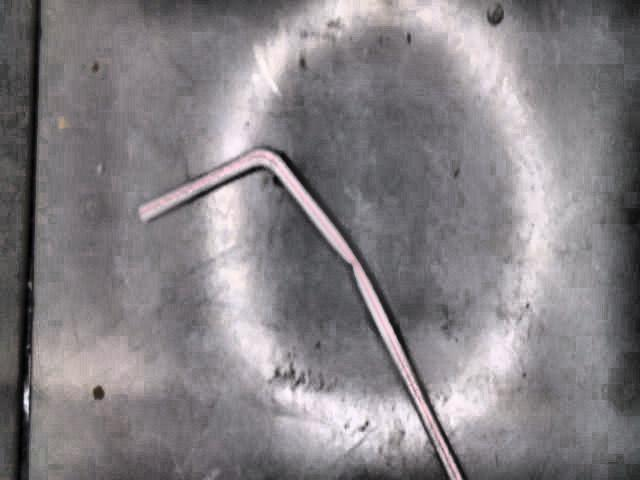Plastic: (140, 149, 468, 480)
